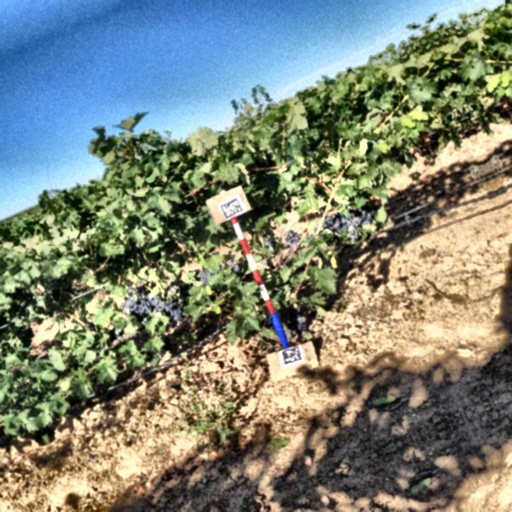QR: (280, 345, 304, 367), (220, 198, 243, 219)
